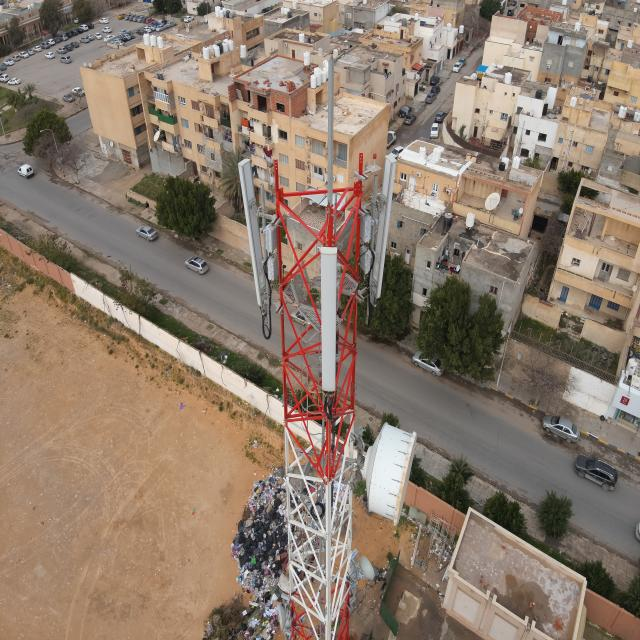Ground Based: (233, 38, 420, 640)
